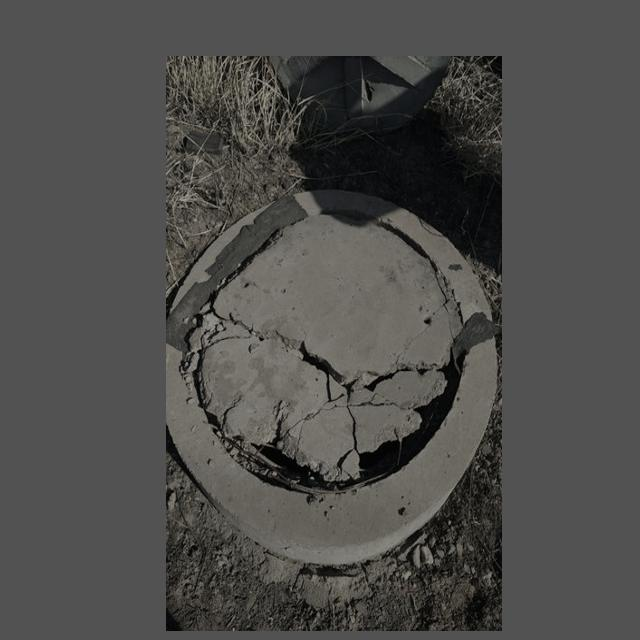broke: (175, 185, 486, 556)
